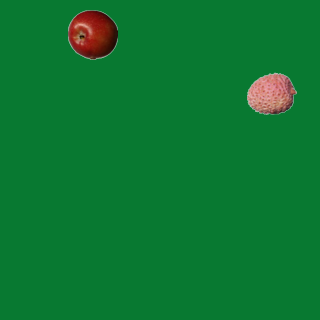Apple Braeburn: (67, 9, 117, 59)
Lychee: (246, 68, 296, 118)
